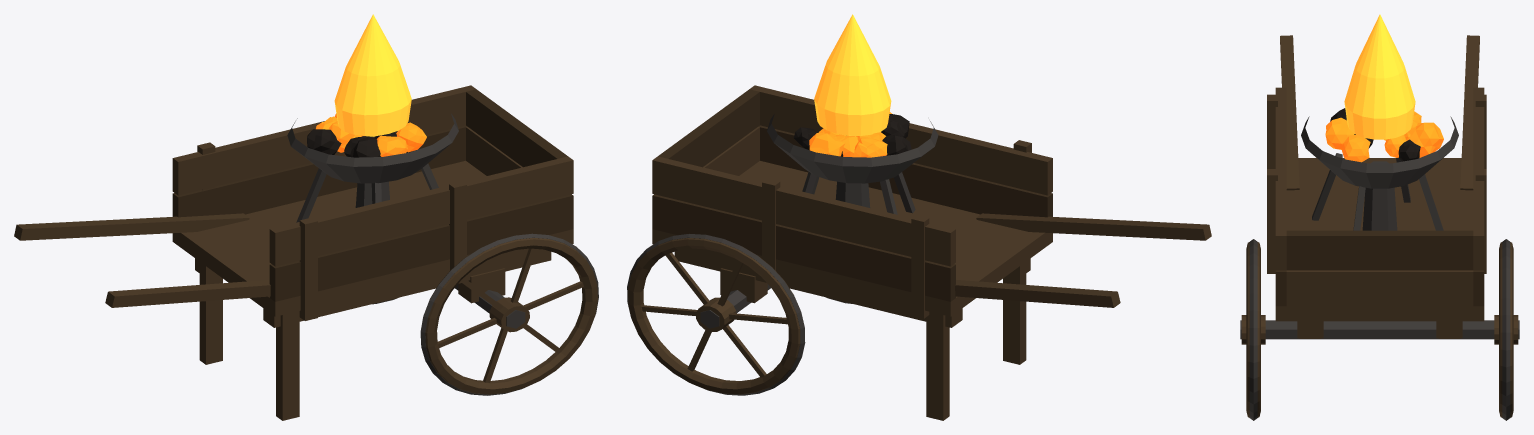
The model's file is brazier-cart.glb.
3 views of the same model, side by side, from view 1: azimuth 30°, elevation 25°; view 2: azimuth 150°, elevation 25°; view 3: azimuth 270°, elevation 25° (orthographic).
Visible parts, largest first — view 1: Body_Wood, Body_WoodDark, Body_Iron, Flame1_Fire, Body_Glow, Body_Charred; view 2: Body_Wood, Body_WoodDark, Body_Iron, Flame1_Fire, Body_Glow, Body_Charred; view 3: Body_Wood, Body_Iron, Body_WoodDark, Flame1_Fire, Body_Glow, Body_Charred.
Part boxes in pixels (bbox=[...]): Body_Wood: bbox=[14, 85, 597, 420]; Body_WoodDark: bbox=[172, 89, 573, 301]; Body_Iron: bbox=[287, 113, 598, 395]; Flame1_Fire: bbox=[334, 14, 411, 136]; Body_Glow: bbox=[316, 113, 426, 156]; Body_Charred: bbox=[307, 129, 396, 157]; Body_Wood: bbox=[628, 85, 1211, 420]; Body_WoodDark: bbox=[652, 89, 1052, 301]; Body_Iron: bbox=[627, 114, 938, 395]; Flame1_Fire: bbox=[814, 14, 891, 136]; Body_Glow: bbox=[809, 112, 891, 157]; Body_Charred: bbox=[793, 114, 911, 156]; Body_Wood: bbox=[1241, 35, 1518, 417]; Body_Iron: bbox=[1240, 116, 1519, 420]; Body_WoodDark: bbox=[1275, 230, 1484, 306]; Flame1_Fire: bbox=[1344, 14, 1415, 139]; Body_Glow: bbox=[1325, 111, 1443, 162]; Body_Charred: bbox=[1330, 108, 1420, 161].
Size of the model in its own units: 2.4 by 1.7 by 1.2.
